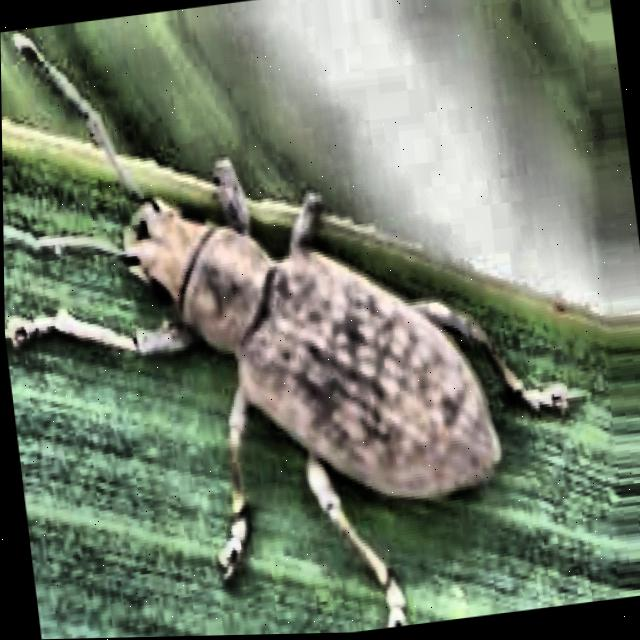Stink bug: (67, 60, 553, 576)
